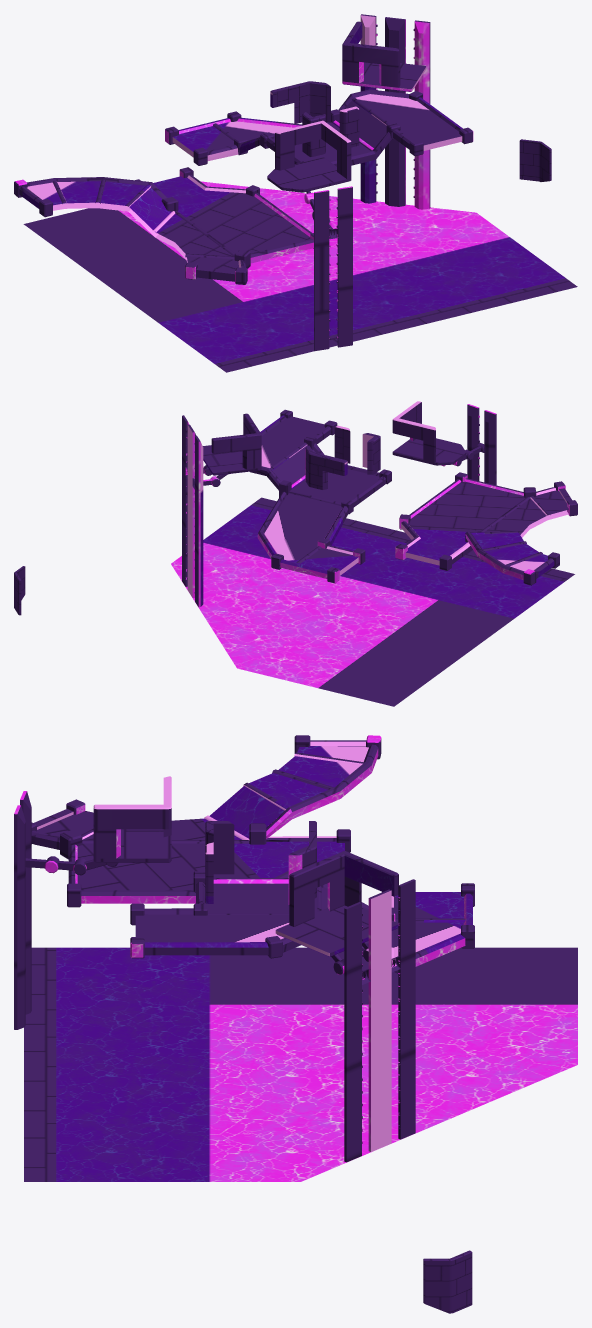
Rendered from City_modified.fbx.
3 views of the same model, one above another, from view 1: azimuth 30°, elevation 25°; view 2: azimuth 150°, elevation 25°; view 3: azimuth 270°, elevation 25° (orthographic). The views are drawn at different scales.
Visible parts, largest first — view 1: City_floor_cobbled, City_floor, City_moving_platform_base, City_moving_platform_base2, City_moving_platform2, City_moving_platform, City_structures, City_structure4; view 2: City_floor_cobbled, City_floor, City_moving_platform_base, City_moving_platform2, City_moving_platform, City_structures, City_moving_platform_base2, City_structure4; view 3: City_floor_cobbled, City_floor, City_moving_platform_base, City_moving_platform, City_moving_platform2, City_moving_platform_base2, City_structures, City_structure4.
Boxes of the visible parts, left/top/right/bottom form: City_floor_cobbled: left=23, top=181, right=577, bottom=372; City_floor: left=14, top=89, right=473, bottom=284; City_moving_platform_base: left=360, top=14, right=430, bottom=209; City_moving_platform_base2: left=314, top=186, right=352, bottom=350; City_moving_platform2: left=267, top=120, right=351, bottom=239; City_moving_platform: left=342, top=21, right=426, bottom=91; City_structures: left=270, top=81, right=359, bottom=156; City_structure4: left=519, top=139, right=551, bottom=181; City_floor_cobbled: left=171, top=497, right=574, bottom=706; City_floor: left=250, top=409, right=577, bottom=585; City_moving_platform_base: left=182, top=415, right=203, bottom=607; City_moving_platform2: left=392, top=401, right=484, bottom=466; City_moving_platform: left=185, top=413, right=261, bottom=489; City_structures: left=305, top=425, right=380, bottom=489; City_moving_platform_base2: left=467, top=404, right=496, bottom=485; City_structure4: left=14, top=566, right=25, bottom=615; City_floor_cobbled: left=24, top=947, right=577, bottom=1181; City_floor: left=31, top=735, right=474, bottom=973; City_moving_platform_base: left=344, top=879, right=415, bottom=1162; City_moving_platform: left=275, top=851, right=400, bottom=984; City_moving_platform2: left=25, top=776, right=171, bottom=875; City_moving_platform_base2: left=14, top=791, right=31, bottom=1029; City_structures: left=205, top=821, right=316, bottom=904; City_structure4: left=423, top=1250, right=472, bottom=1313.
Bounding box in the file's own units: 6263 × 2407 × 4039.
